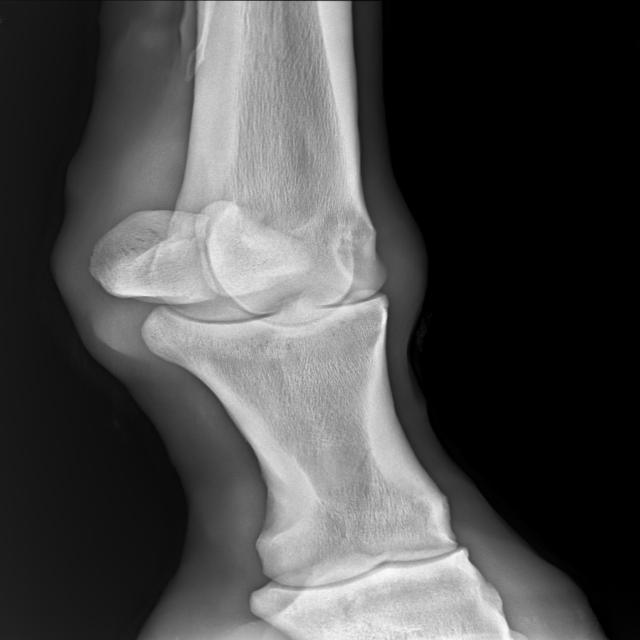joint-ht8A: (43, 163, 460, 405)
